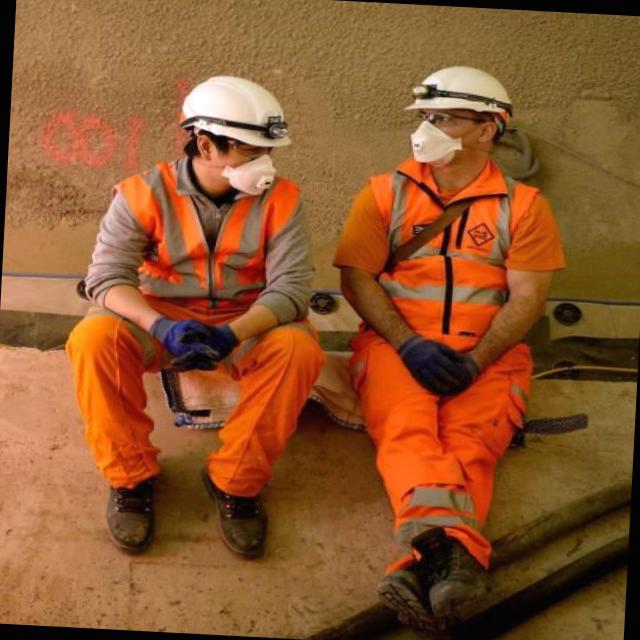goggles: (385, 104, 495, 146), (215, 138, 292, 164)
helmet: (172, 62, 306, 150), (399, 54, 528, 129)
vest: (338, 156, 560, 462), (82, 158, 321, 356)
